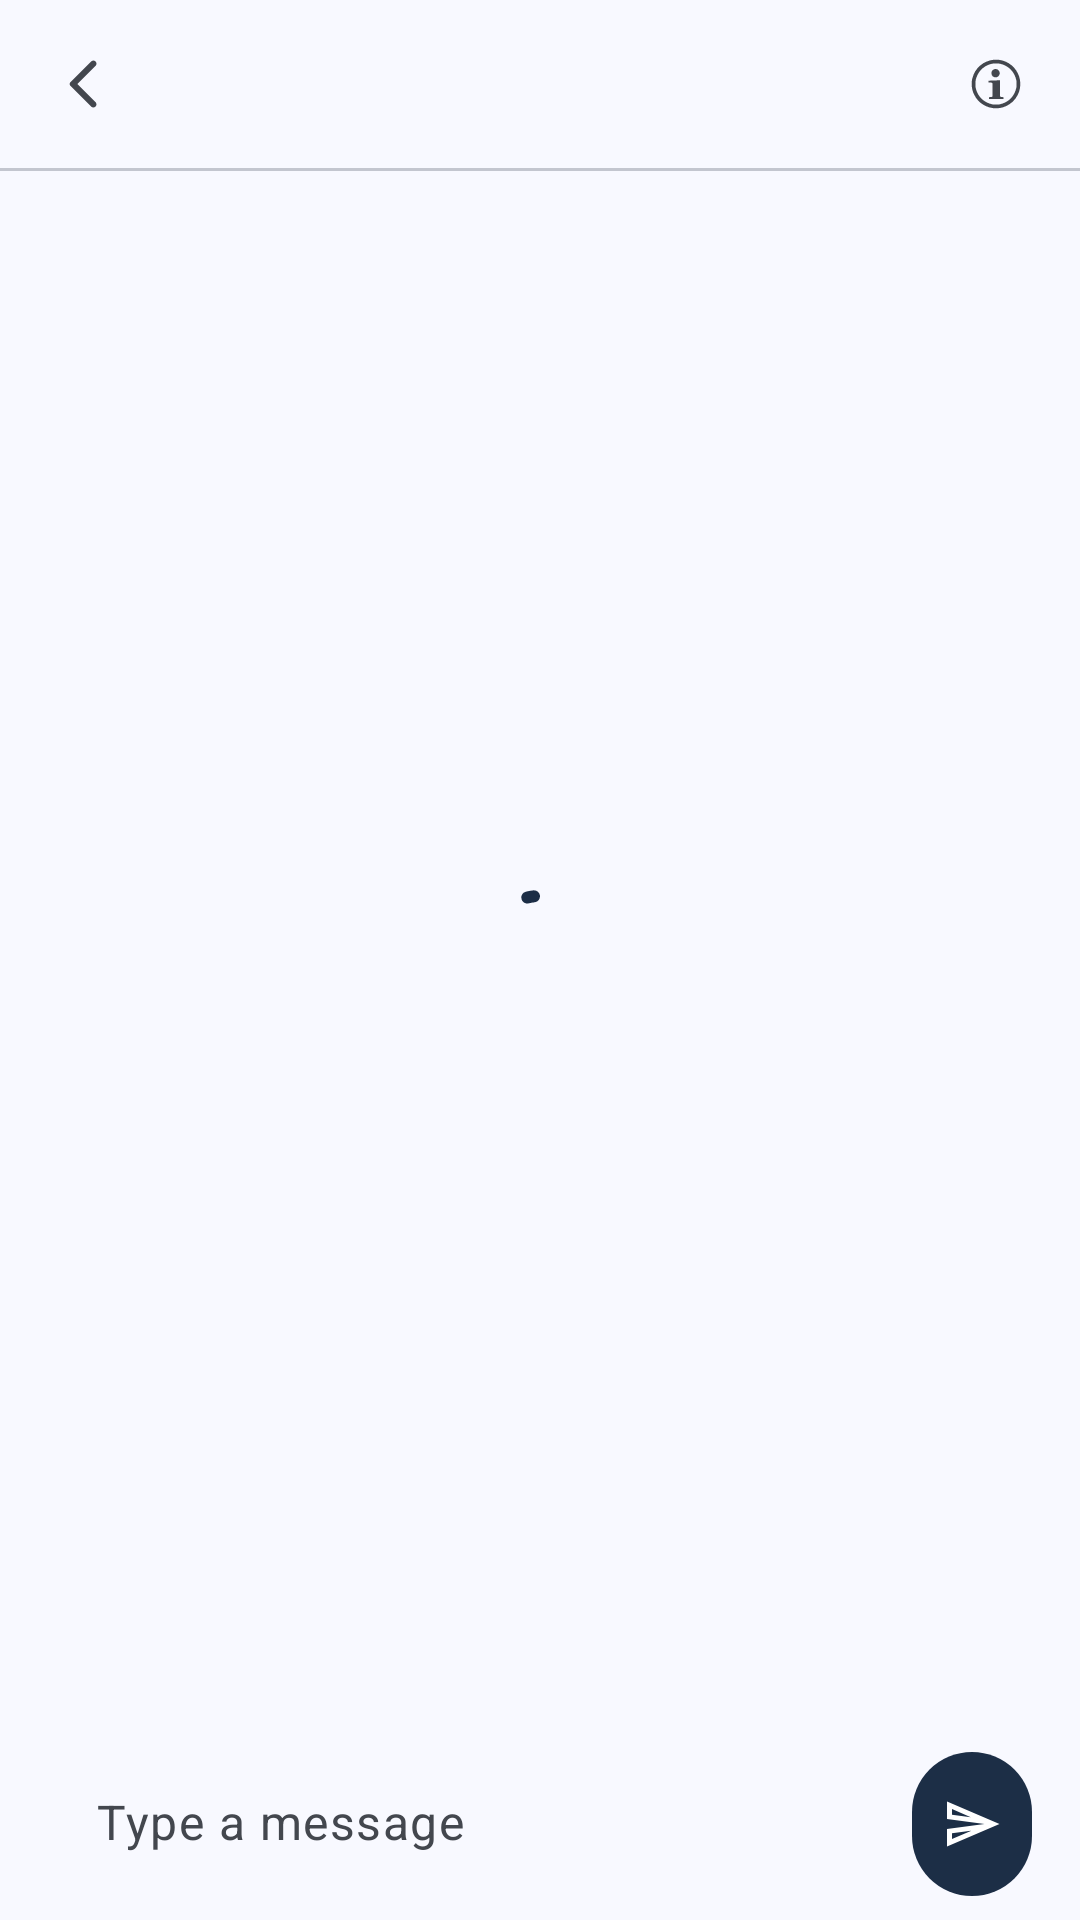

Named icons in this screenshot (1080*1920) and their bounding boxes, (x1, y1, x2, y2):
Back: (69, 60, 97, 108)
Contact info: (971, 59, 1021, 109)
Send: (912, 1752, 1032, 1896)
